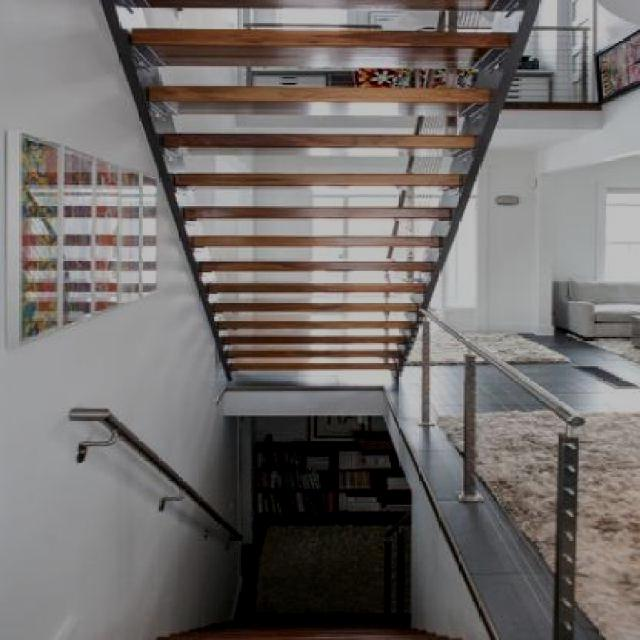stair: (89, 1, 477, 406)
